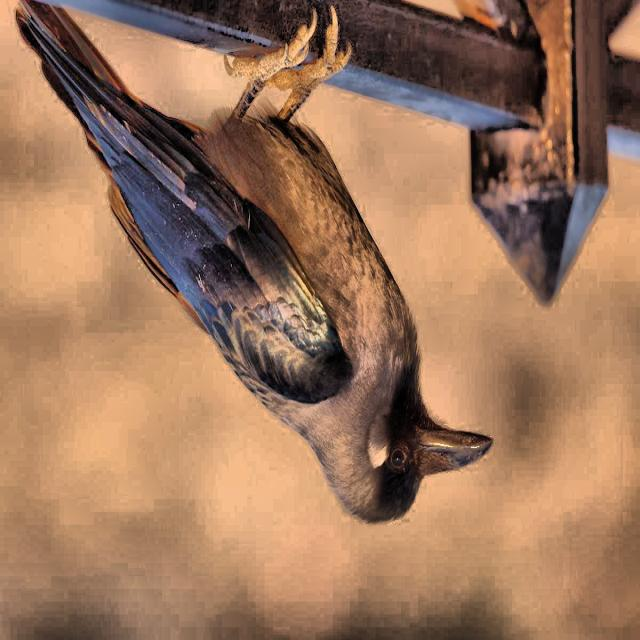crow: (14, 2, 498, 540)
